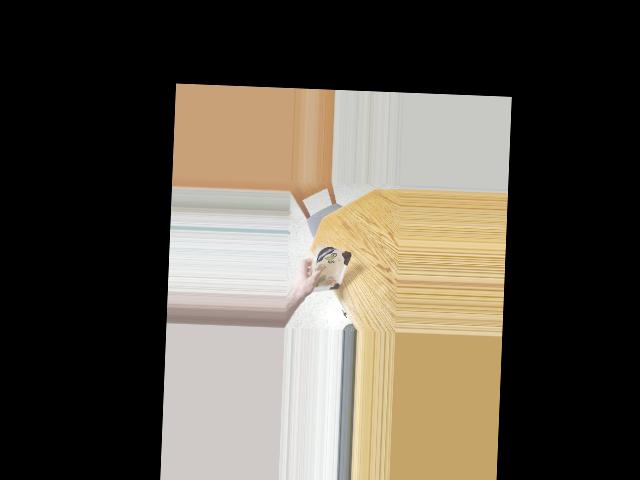cheese: (310, 242, 347, 295)
